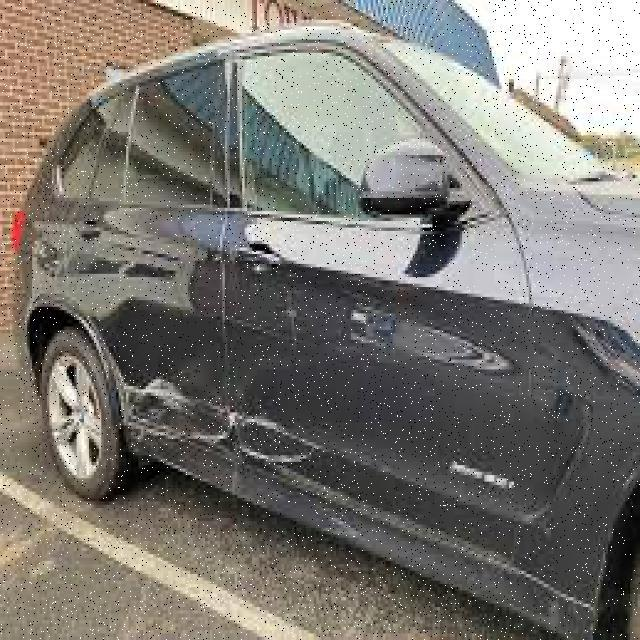RunningBoard-Dent: (299, 495, 469, 588)
doorouter-dent: (227, 218, 524, 449), (67, 211, 230, 445)
